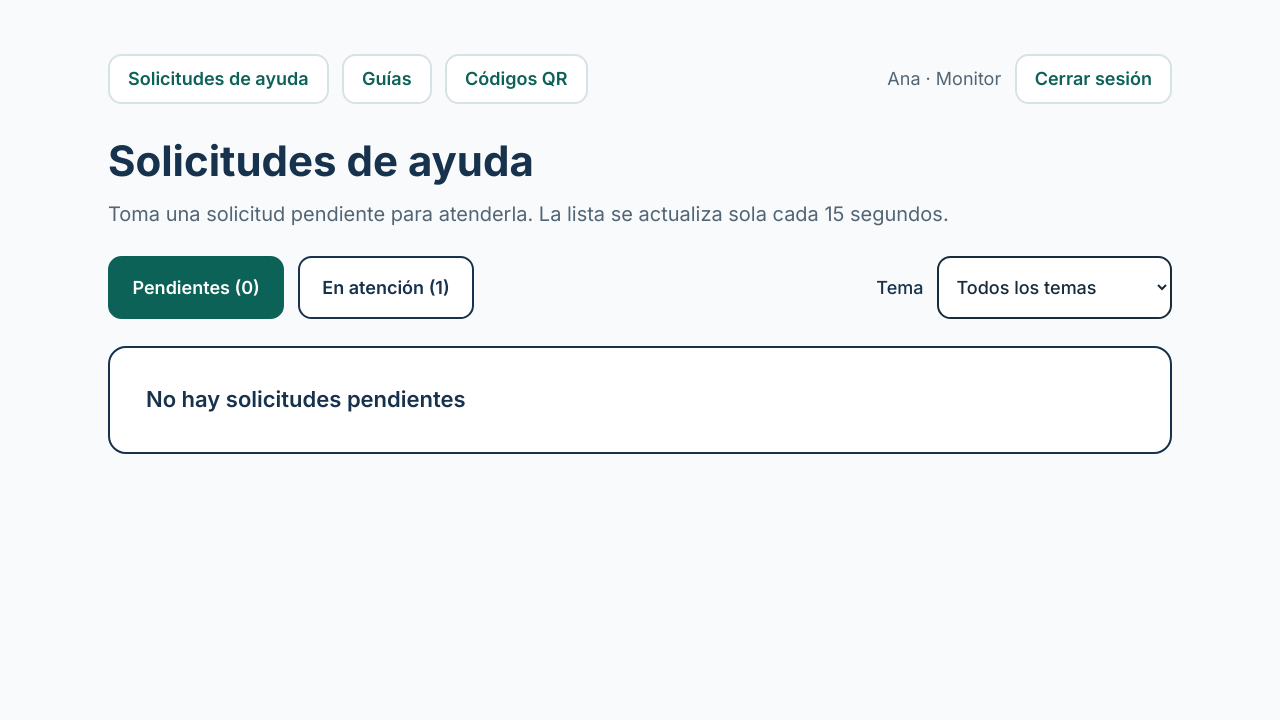
Test case: ColaSolicitudesPage › listado › En atención muestra monitor responsable y fecha de toma, y conserva la solicitud
expect the text "No hay solicitudes pendientes" is shown: met, box [108,346,1172,454]
What coordinates should you click on to do the following:
click the button "En atención (1)"
I would click on:
 (386, 288)
Its box is [298,256,474,319].
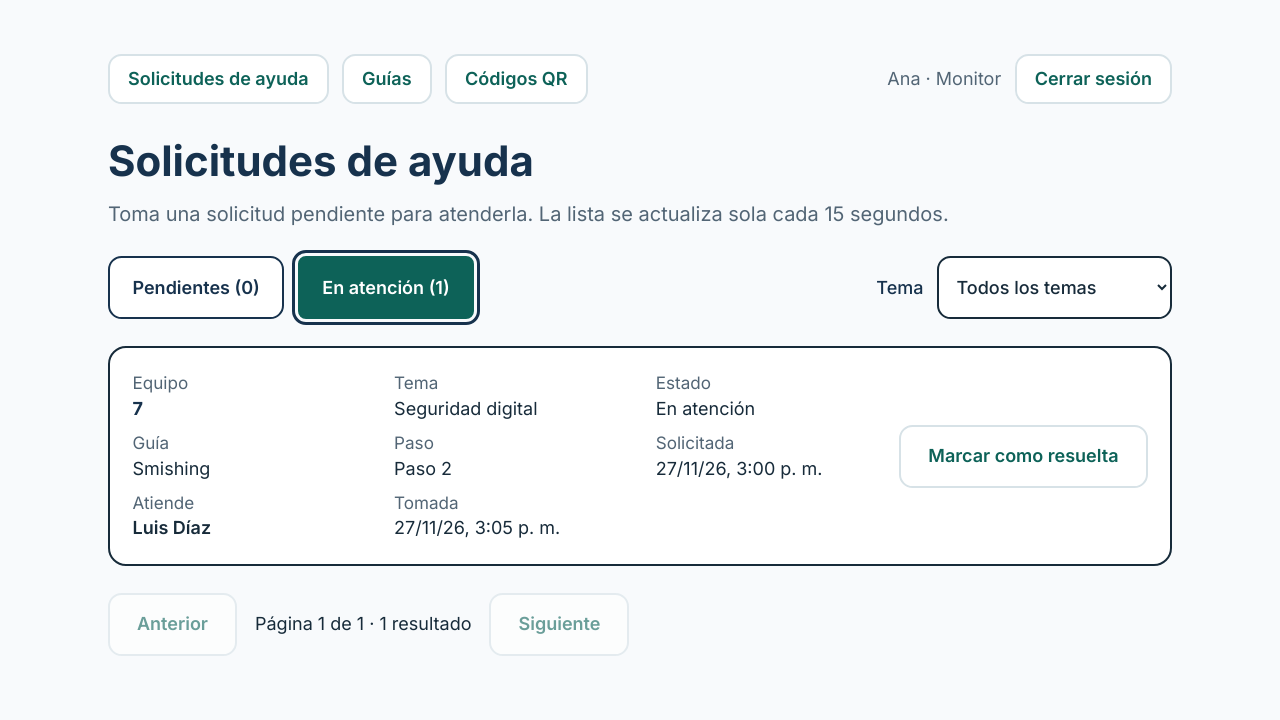
expect the text "Luis Díaz" is shown: met, box [132,517,211,538]
expect the text "Tomada" is shown: met, box [394,492,459,513]
expect the button "Marcar como resuelta" is shown: met, box [899,425,1148,488]
